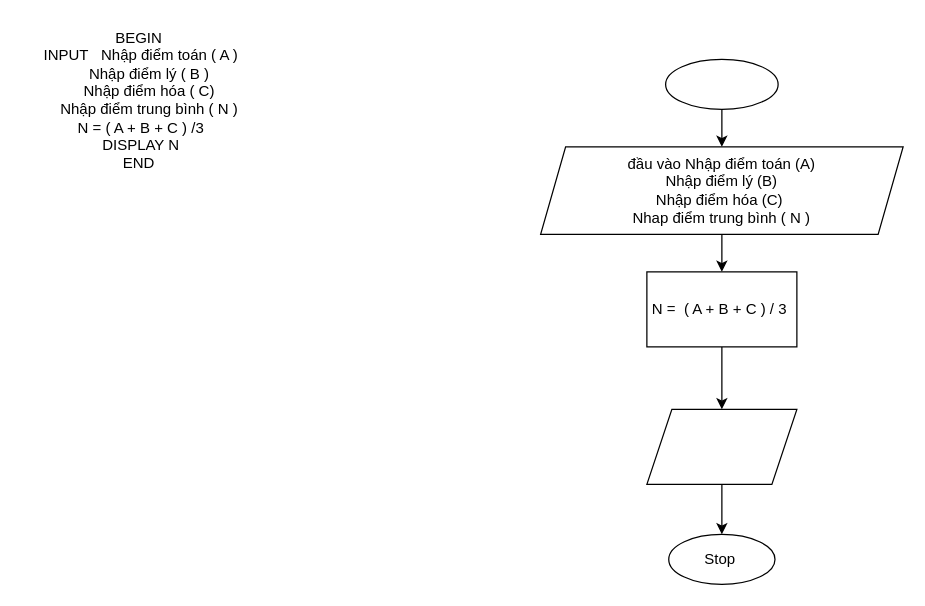
Image size: 925x606. Some labels were removed from this diagram. The centre of each missing label's shape, as x and y in pixels:
Display N: the point at 721,446
Start: the point at 721,83
